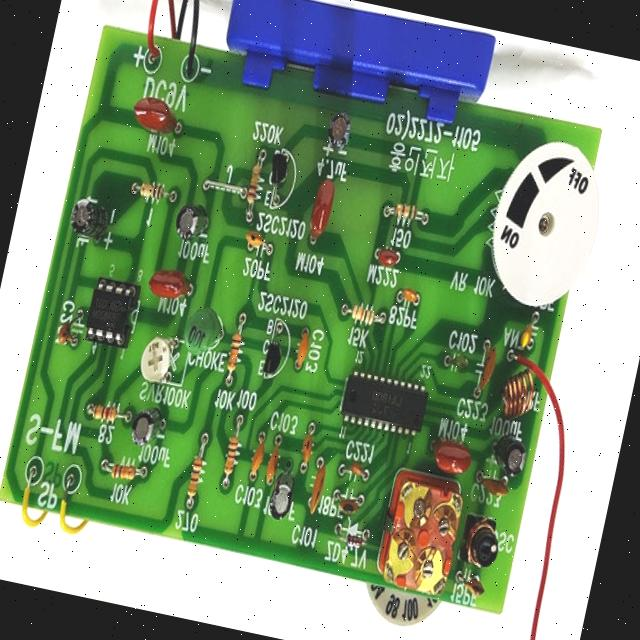Electrolytic capacitor: (66, 186, 116, 246), (124, 396, 168, 454), (264, 456, 302, 523), (170, 200, 216, 252), (490, 426, 532, 480), (322, 107, 358, 158)
IC: (336, 359, 436, 439), (80, 275, 140, 353)
resistor: (223, 314, 249, 376), (182, 448, 208, 502), (218, 425, 244, 476), (106, 456, 140, 490), (344, 300, 382, 330), (244, 158, 266, 208), (86, 396, 120, 428), (135, 178, 172, 206), (386, 197, 419, 228)
transistor: (262, 144, 300, 208), (257, 325, 289, 389)
